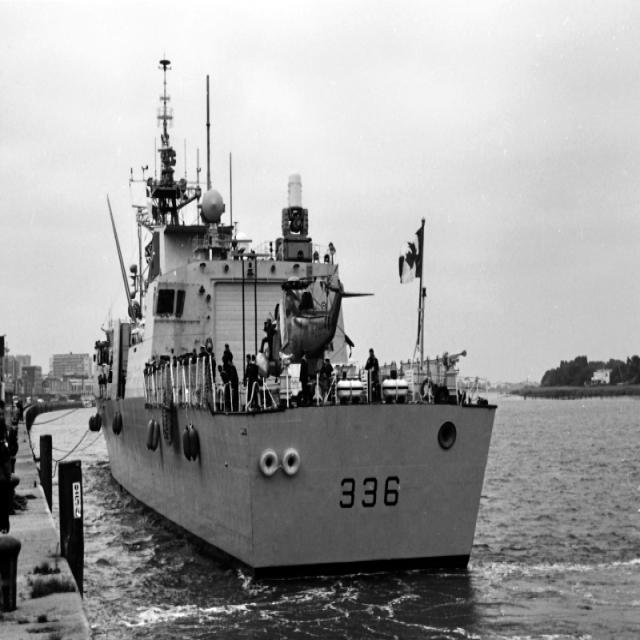Fragata: (93, 37, 504, 570)
